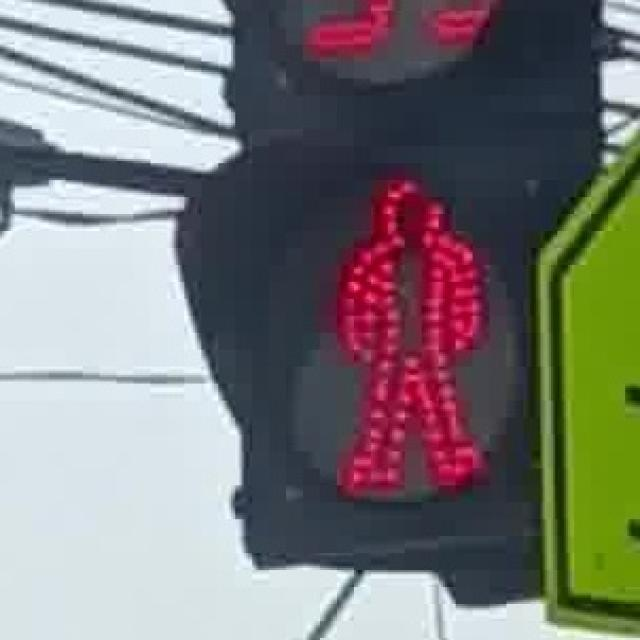red-crossing: (294, 154, 504, 510)
